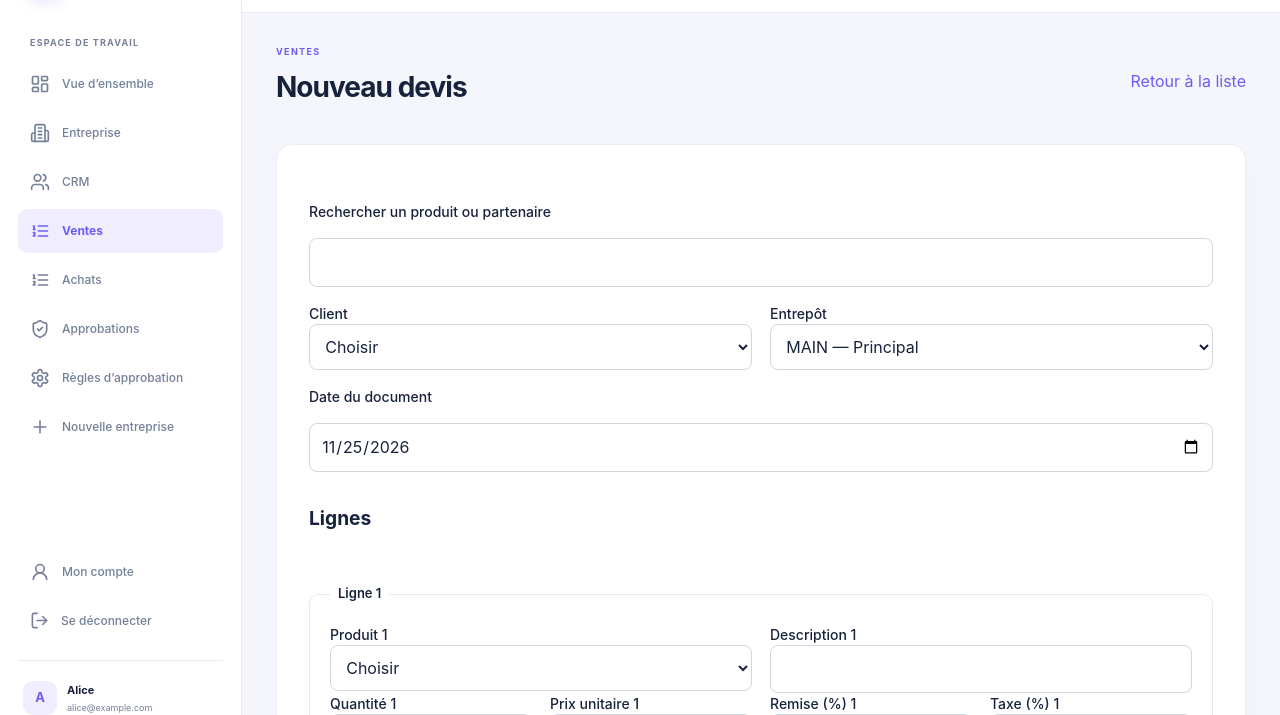
Commandes et approbations connectées › crée un devis exact, confirme et affiche les réservations renvoyées par le serveur
The width and height of the screenshot is (1280, 715).
Select "Client fournisseur" in the dropdown labelled "Client": (530, 347) x1=309 y1=324 x2=752 y2=370
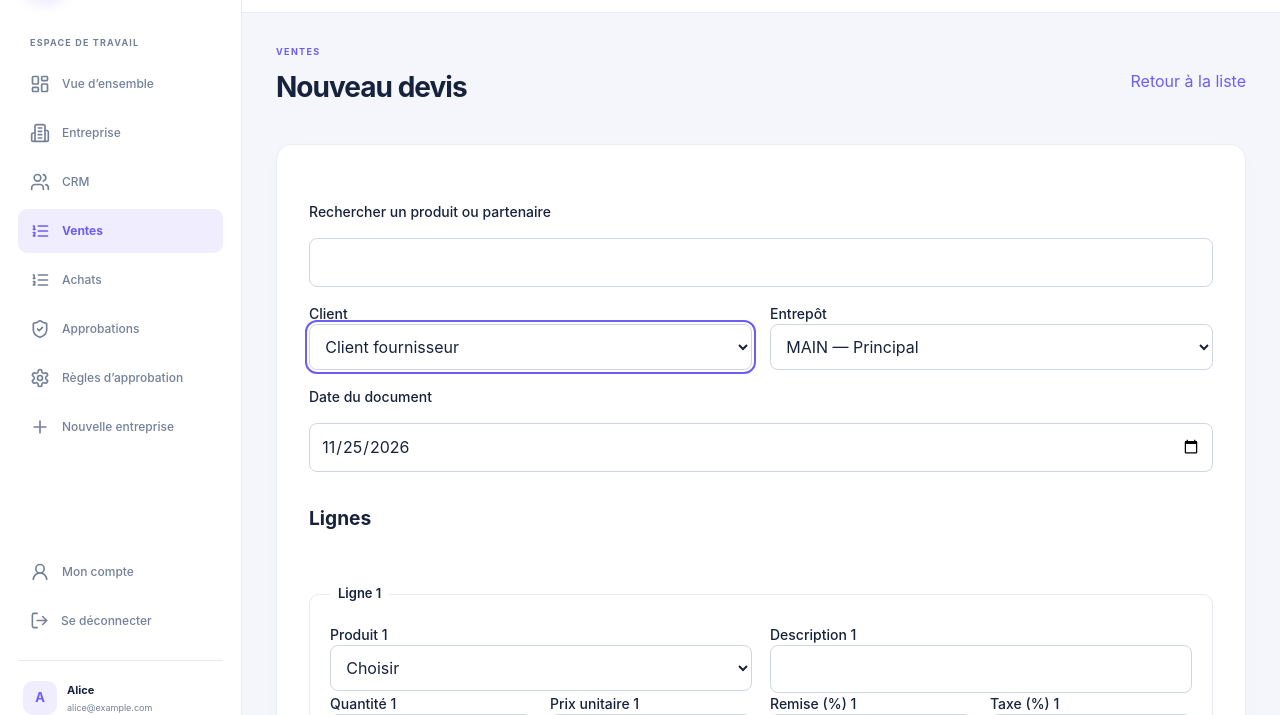
Select "ART — Article" in the dropdown labelled "Produit 1": (541, 668) x1=330 y1=645 x2=752 y2=691
(page scrolled)
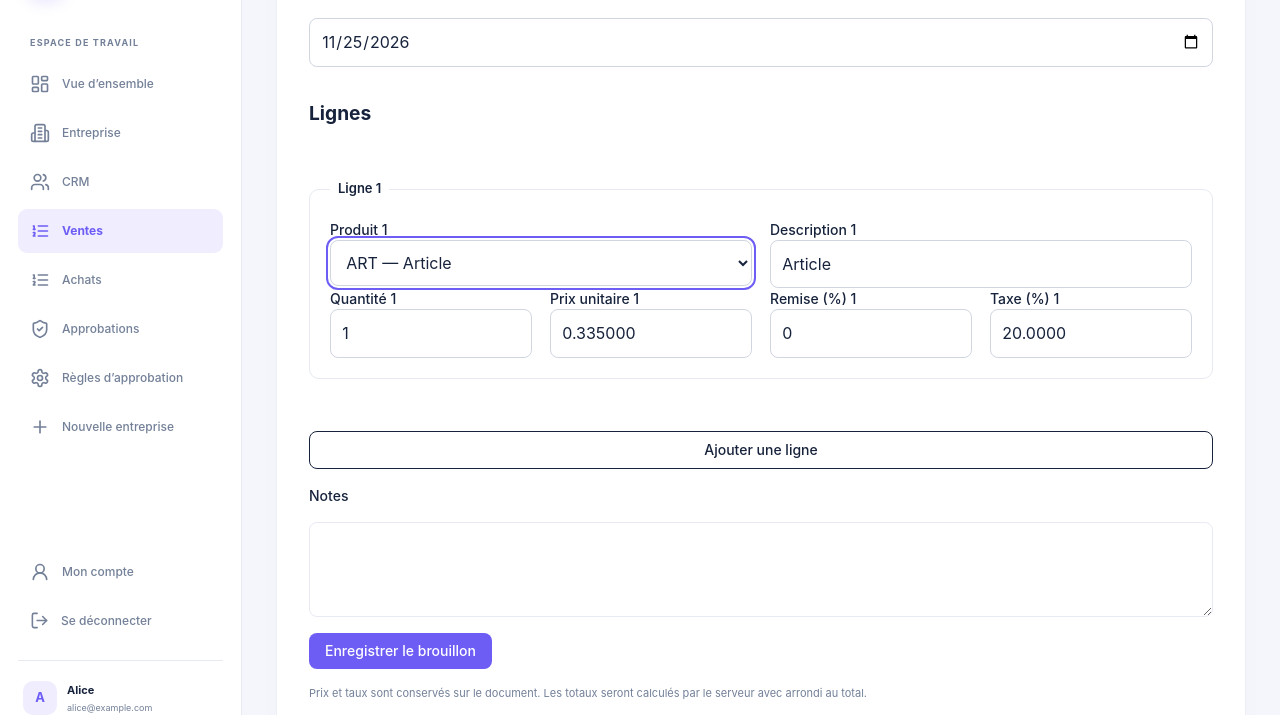
Replace the text in the field labelled "Quantité 1" with "3": (431, 333) x1=330 y1=309 x2=532 y2=358
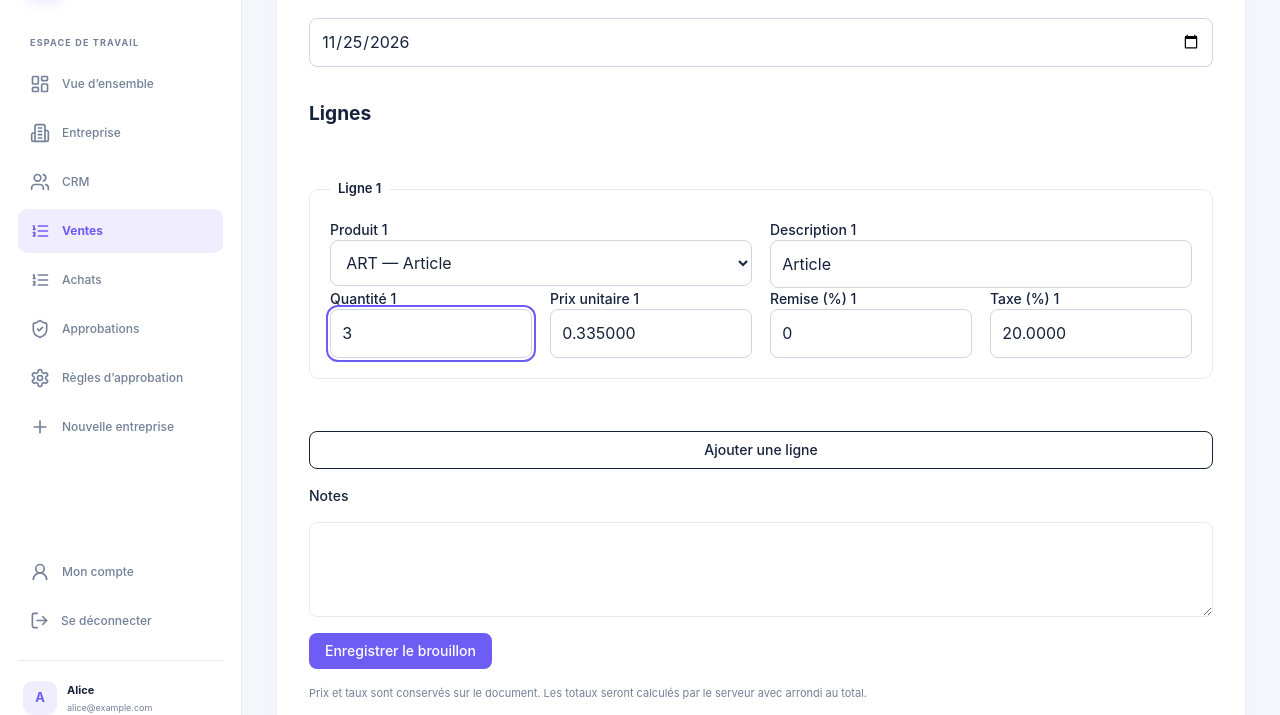
Click the button "Enregistrer le brouillon": click(400, 651) x1=309 y1=633 x2=492 y2=669
(page scrolled)
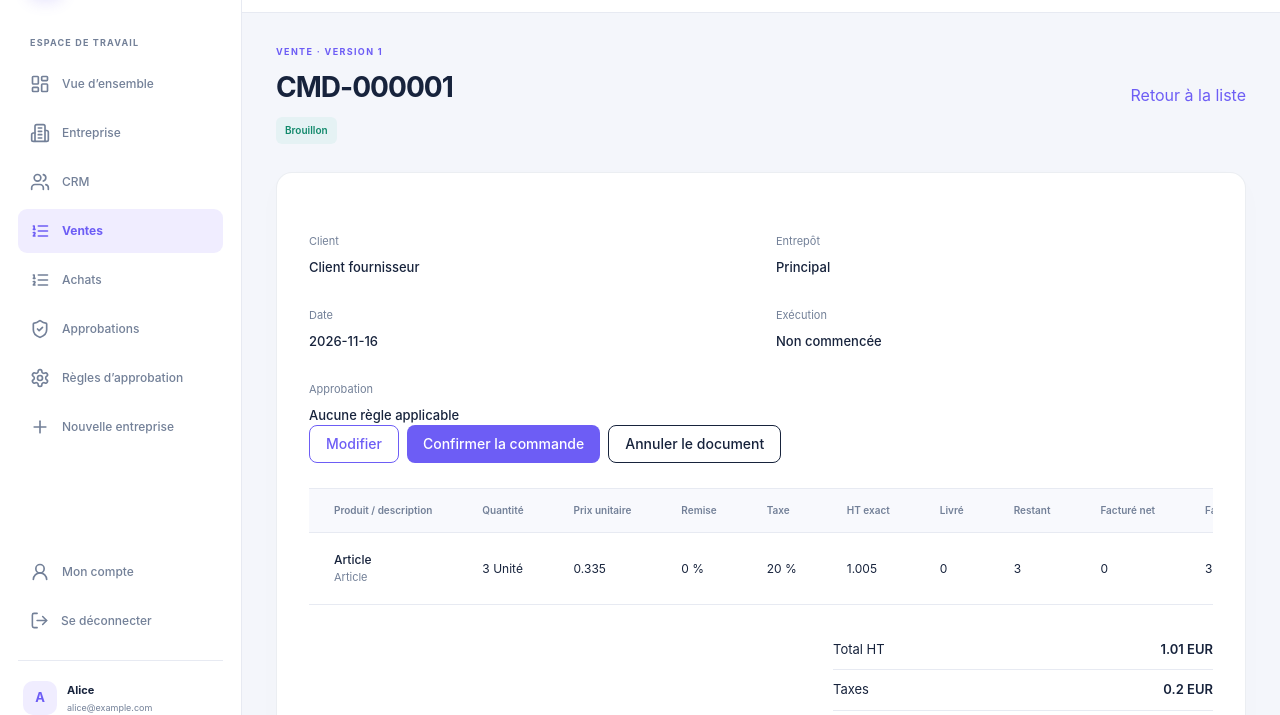
Expected: the heading "CMD-000001" is shown, x1=276 y1=66 x2=453 y2=108
Click the button "Confirmer la commande": click(504, 444) x1=407 y1=425 x2=600 y2=463
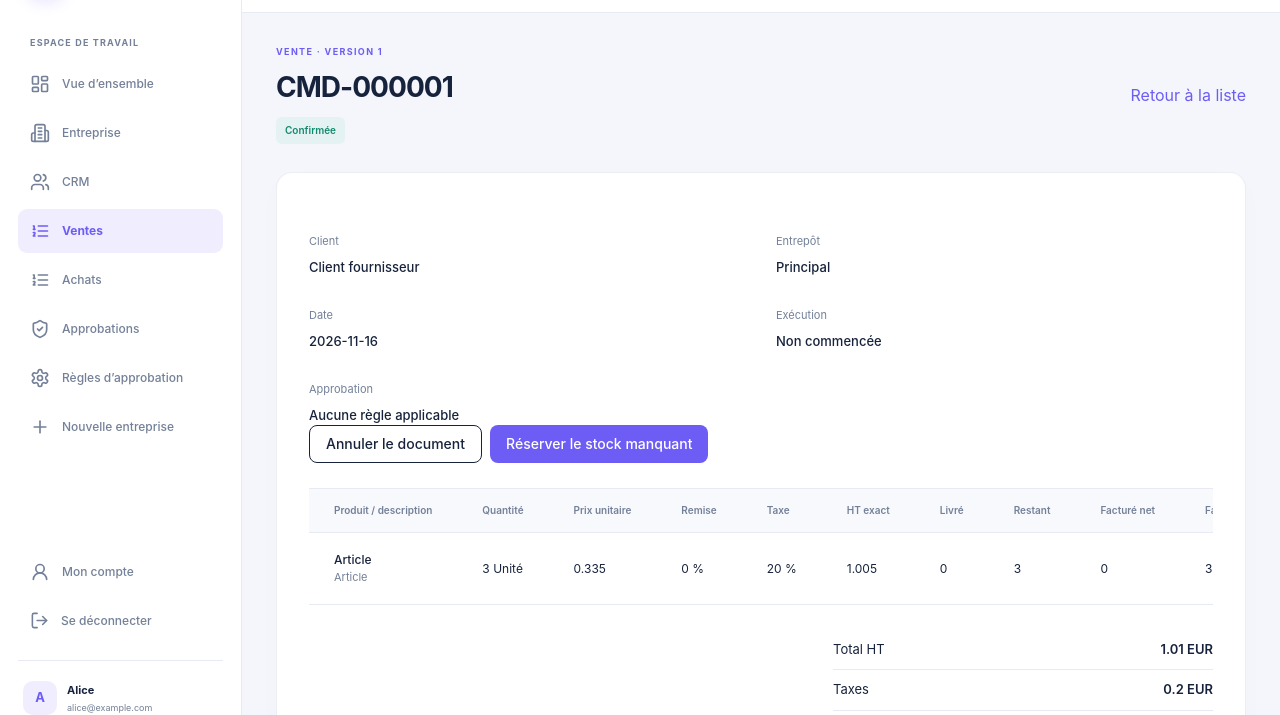
Expected: the text "Confirmée" is shown, x1=276 y1=117 x2=345 y2=144
Expected: the button "Confirmer la commande" is gone
Expected: the button "Réserver le stock manquant" is shown, x1=490 y1=425 x2=708 y2=463
Click the button "Annuler le document": click(396, 444) x1=309 y1=425 x2=482 y2=463
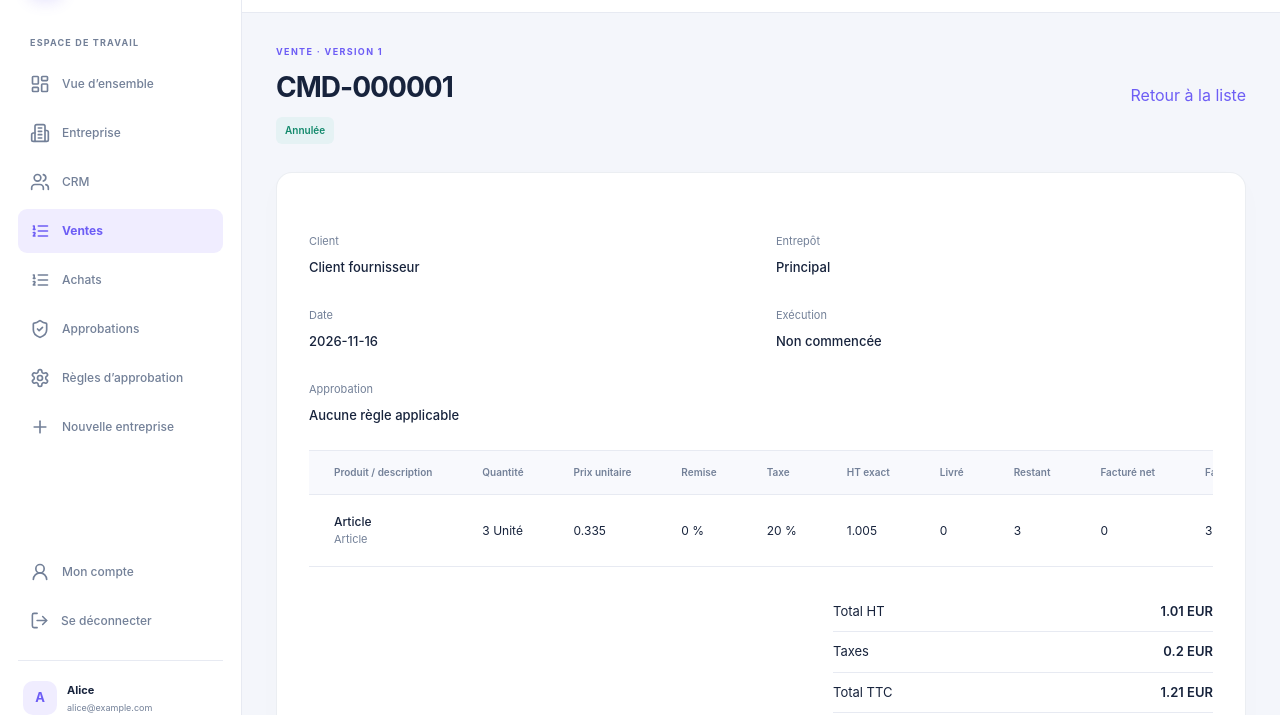
Expected: the text "Annulée" is shown, x1=276 y1=117 x2=334 y2=144
